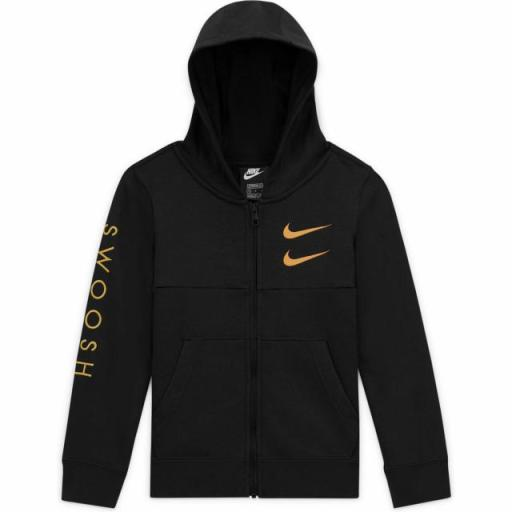Nike: (280, 221, 334, 244)
